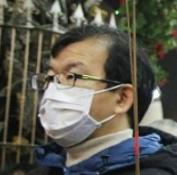OK: (42, 61, 105, 149)
